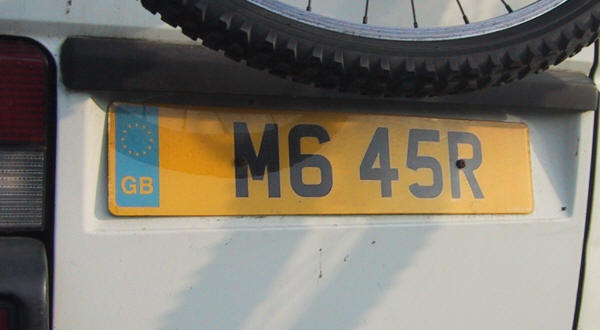license_plate: (107, 100, 536, 217)
